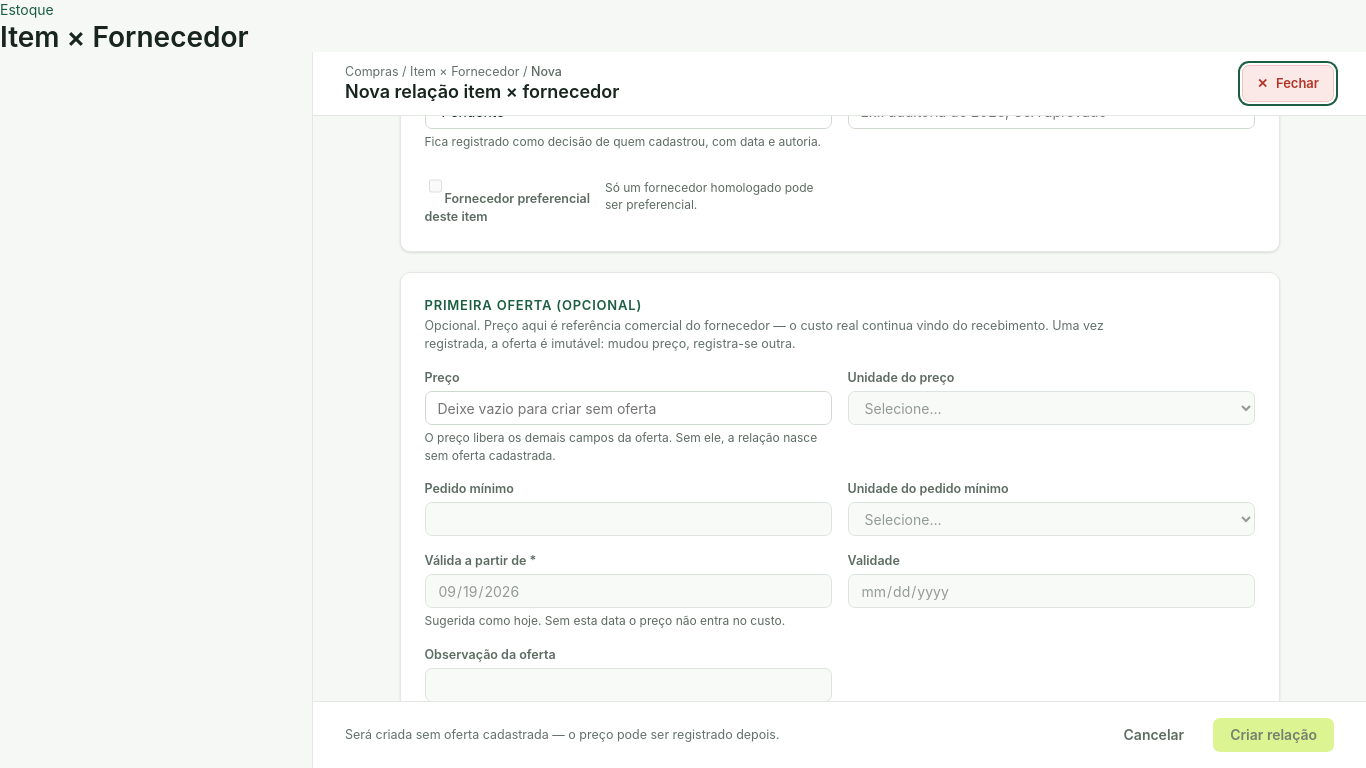
Scenario: Item × Fornecedor — o que NÃO conta como alteração › abrir e digitar o preço e apagar devolve a saída livre
The image size is (1366, 768).
(page scrolled)
Expected: the heading "Nova relação item × fornecedor" is shown, [345,81,619,104]
In the field with id "supplier-item-price": {"x": 628, "y": 408} [424,391,832,425], type "12,50"
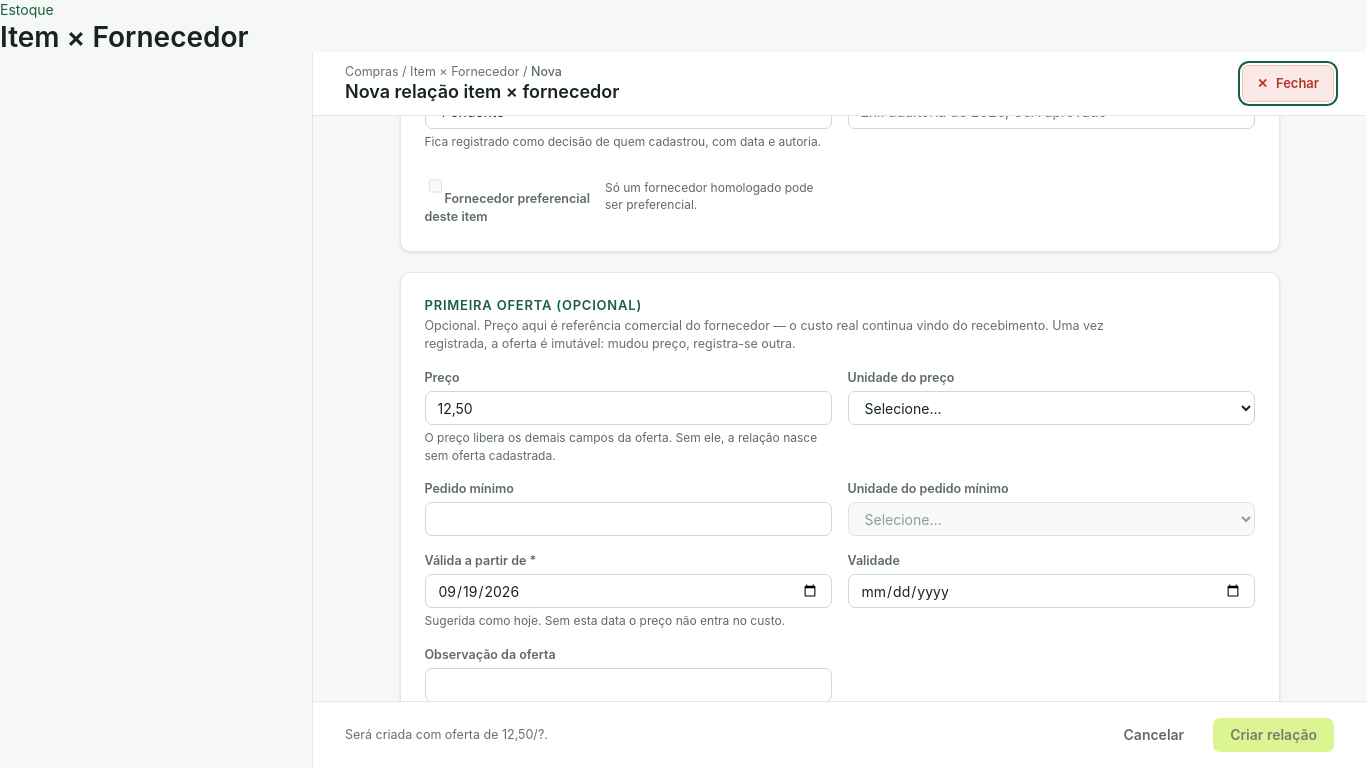
Clear the field with id "supplier-item-price": {"x": 628, "y": 408} [424,391,832,425]
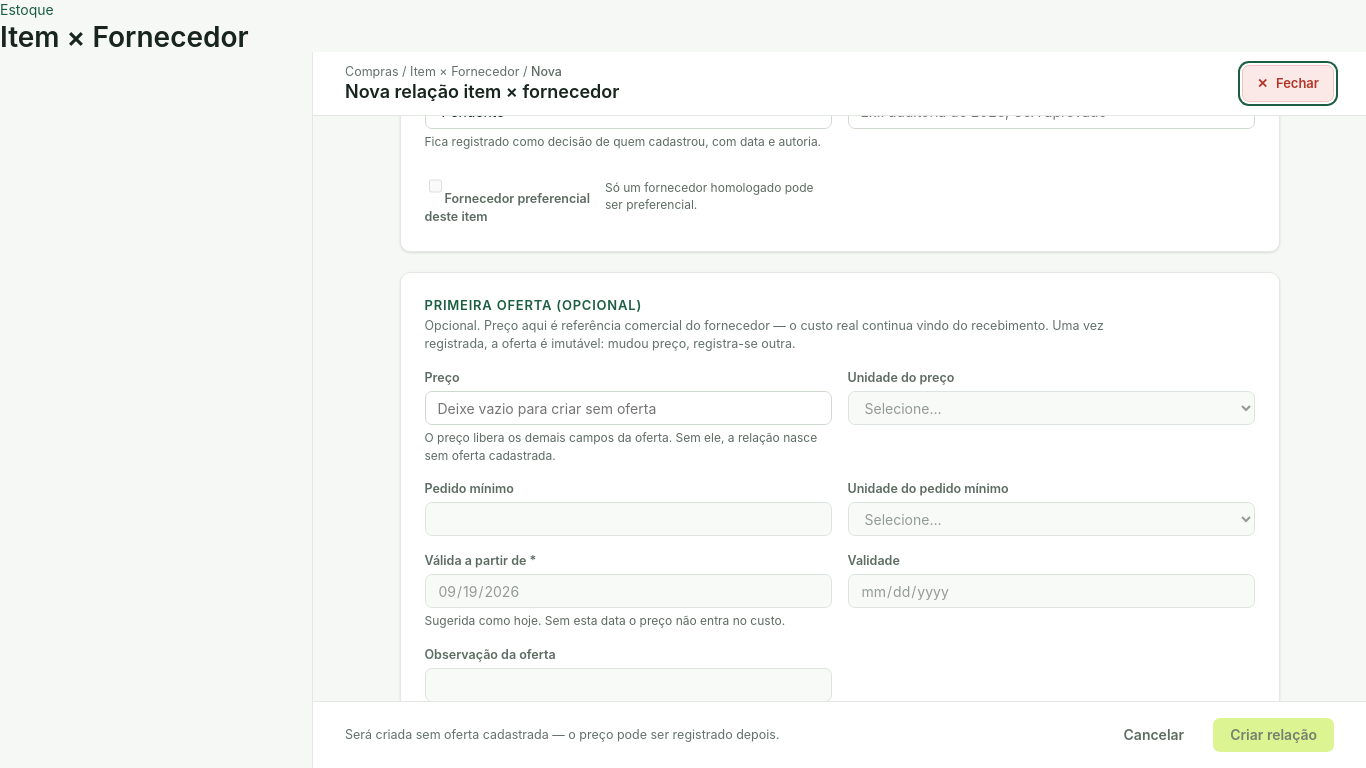
Click the link "Estoque": {"x": 27, "y": 10} [0,1,54,18]
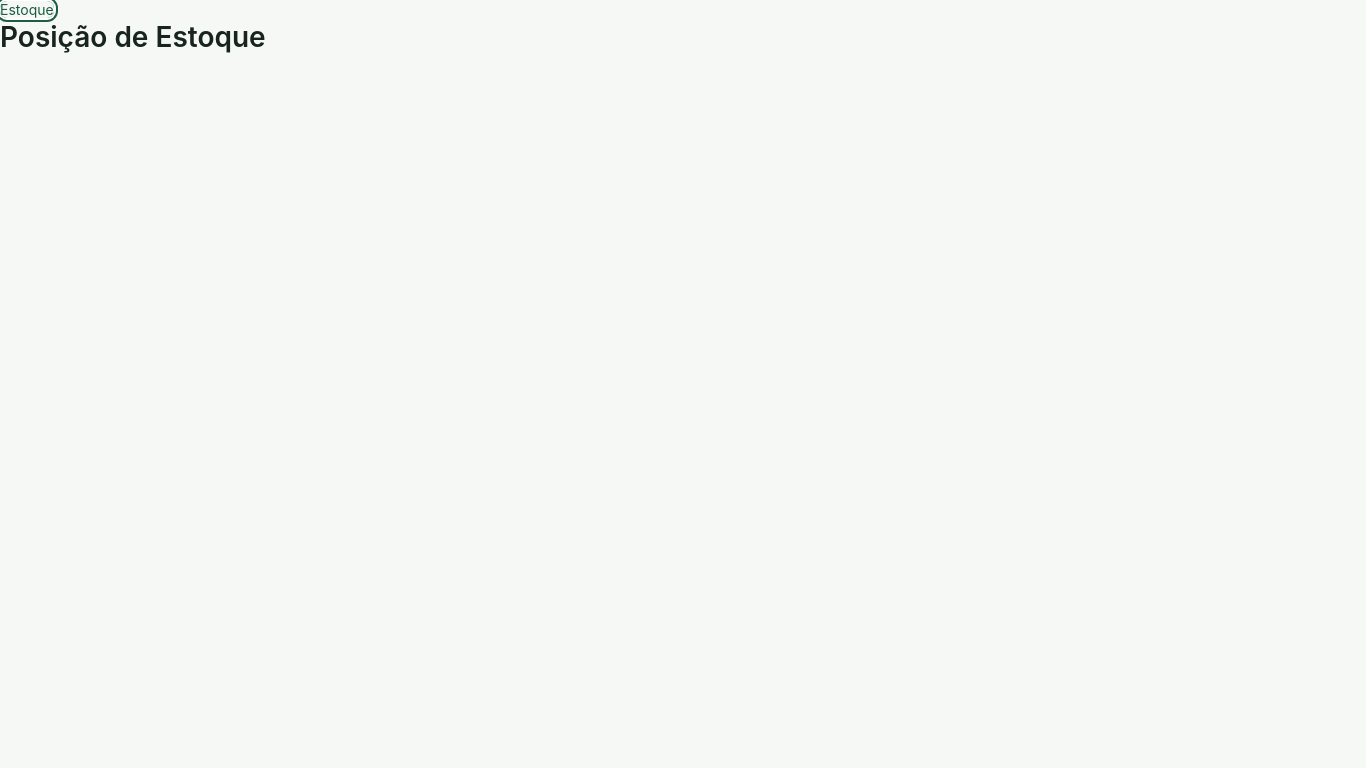
Now the heading "Posição de Estoque" is shown, box [0,20,266,54]
Now the dialog is gone
